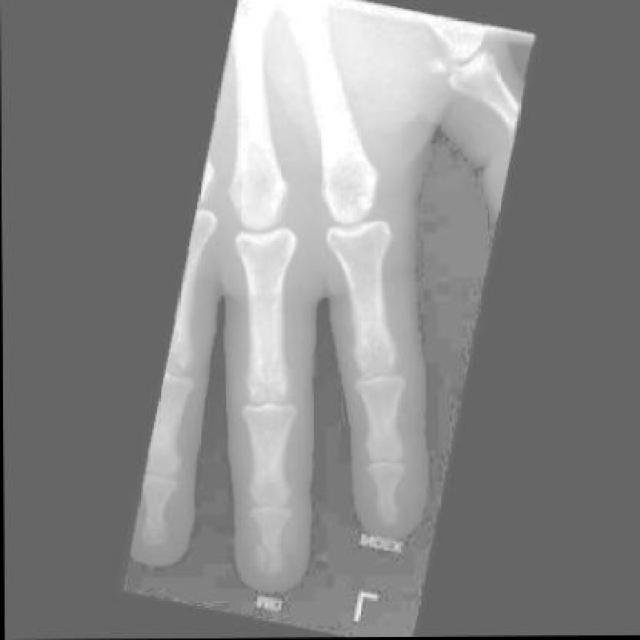bone: (246, 542, 283, 584)
